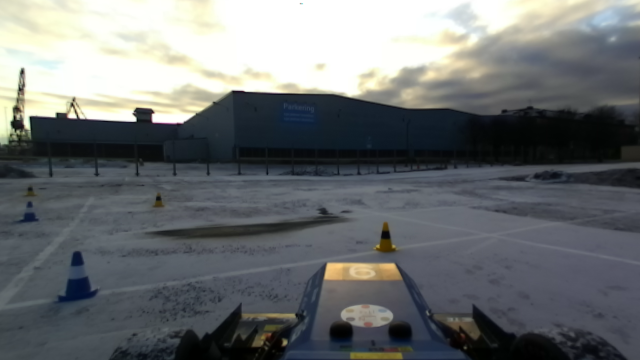blue: (57, 250, 101, 302), (18, 202, 39, 224)
yellow: (374, 220, 399, 254), (151, 191, 166, 209)
